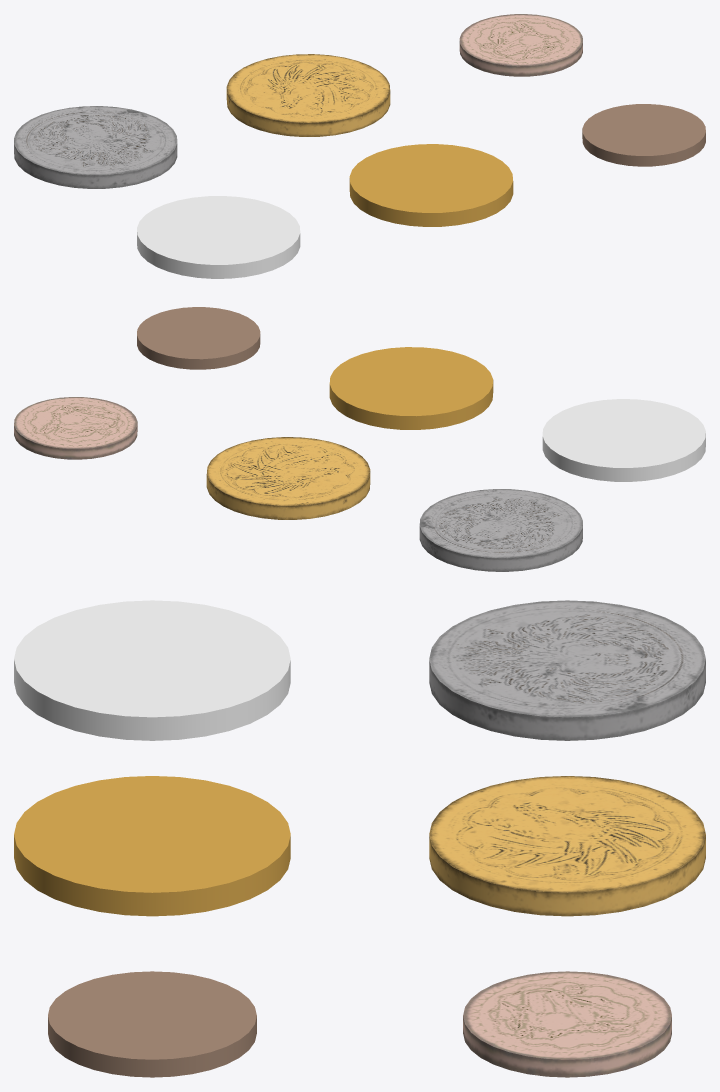
File: coin.glb
The picture shows the model from 3 angles, top to bottom: view 1: azimuth 30°, elevation 25°; view 2: azimuth 150°, elevation 25°; view 3: azimuth 270°, elevation 25°; orthographic projection. The views are drawn at different scales.
Parts seen in each view (by area): view 1: Coin_Gold-Old, Coin_Gold-New, Coin_Silver-Old, Coin_Silver-New, Coin_Copper-Old, Coin_Copper-New; view 2: Coin_Gold-New, Coin_Gold-Old, Coin_Silver-New, Coin_Silver-Old, Coin_Copper-Old, Coin_Copper-New; view 3: Coin_Silver-Old, Coin_Silver-New, Coin_Gold-Old, Coin_Gold-New, Coin_Copper-Old, Coin_Copper-New.
Part boxes in pixels (box(x1,y1,x2,y2)): Coin_Gold-Old: box(226, 54, 390, 136); Coin_Gold-New: box(349, 144, 513, 226); Coin_Silver-Old: box(14, 106, 177, 188); Coin_Silver-New: box(137, 196, 300, 278); Coin_Copper-Old: box(459, 14, 582, 76); Coin_Copper-New: box(582, 104, 705, 166); Coin_Gold-New: box(329, 347, 493, 429); Coin_Gold-Old: box(206, 437, 370, 519); Coin_Silver-New: box(542, 399, 705, 481); Coin_Silver-Old: box(419, 489, 582, 571); Coin_Copper-Old: box(14, 397, 137, 459); Coin_Copper-New: box(137, 307, 260, 369); Coin_Silver-Old: box(429, 600, 705, 740); Coin_Silver-New: box(14, 600, 290, 740); Coin_Gold-Old: box(429, 776, 705, 916); Coin_Gold-New: box(14, 776, 290, 916); Coin_Copper-Old: box(463, 971, 671, 1077); Coin_Copper-New: box(48, 971, 256, 1077).
Bounding box in the file's own units: 20.16 × 0.4882 × 12.99.
Materials: 1 (1 with a texture image).
